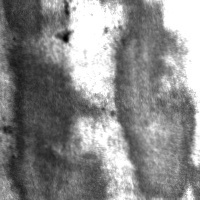patches: (9, 1, 98, 199), (112, 0, 194, 198)
